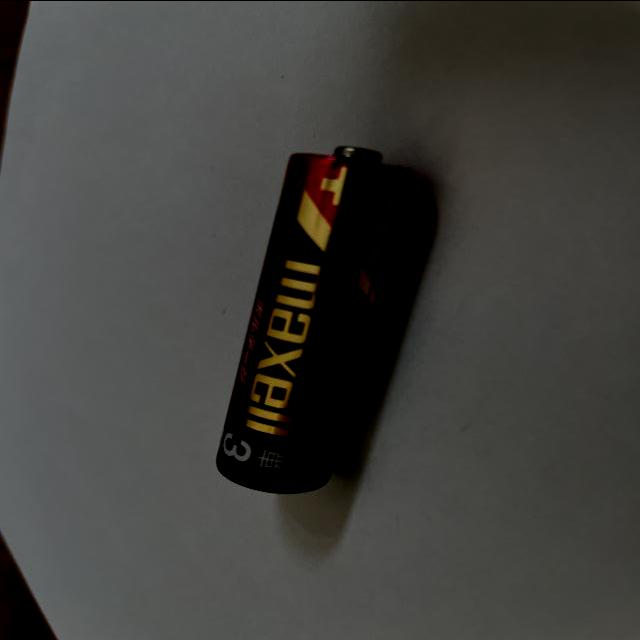AA: (215, 144, 426, 493)
